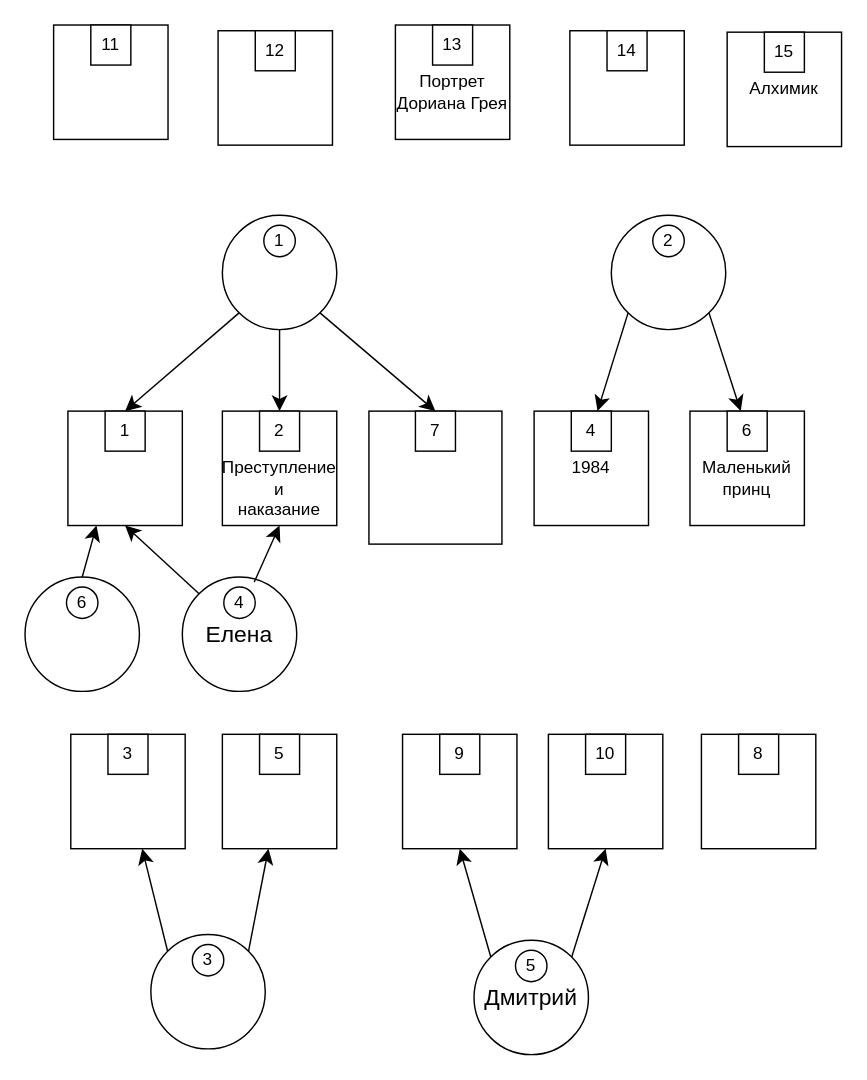
Image size: 867x1080. Some labels were removed from this diagram. The box of each missing label's shape, as (x1, y1, x2, y2) in pixels:
Алексей: (221, 214, 337, 330)
Атлант расправил плечи: (547, 733, 663, 849)
Война и Мир: (69, 733, 185, 849)
Гарри Поттер и философский камень: (368, 410, 502, 544)
Иван: (149, 933, 265, 1049)
Мария: (610, 214, 726, 330)
Мастер и маргарита: (66, 410, 182, 526)
Над пропастью во ржи: (568, 29, 684, 145)
Ольга: (24, 576, 139, 691)
Тень горы: (401, 733, 517, 849)
Три товарища: (221, 733, 337, 849)
Убить пересмешника: (700, 733, 816, 849)
Цветы для Элджернона: (217, 29, 332, 145)
Шантарам: (52, 24, 168, 139)
